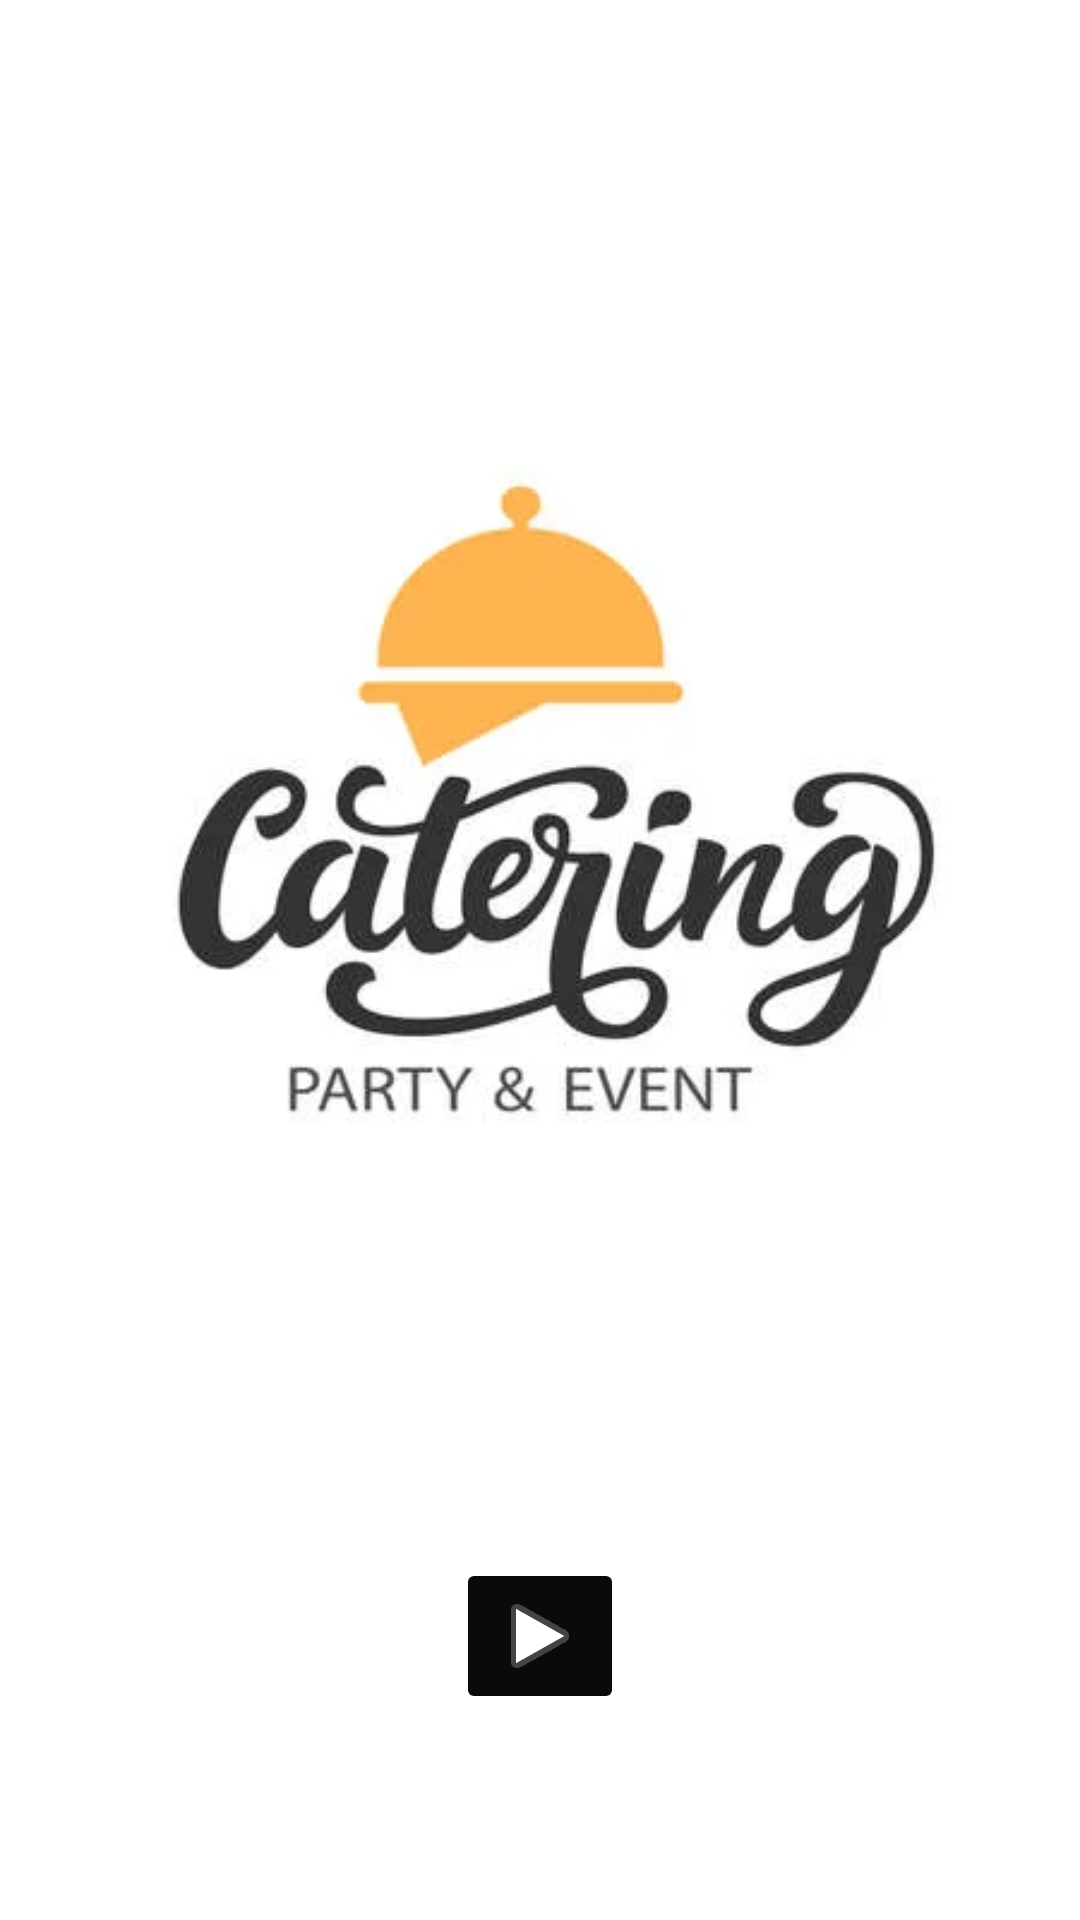

Named icons in this screenshot (1080 × 1920) and their bounding boxes, (x1, y1, x2, y2):
play: (468, 1576, 612, 1696)
